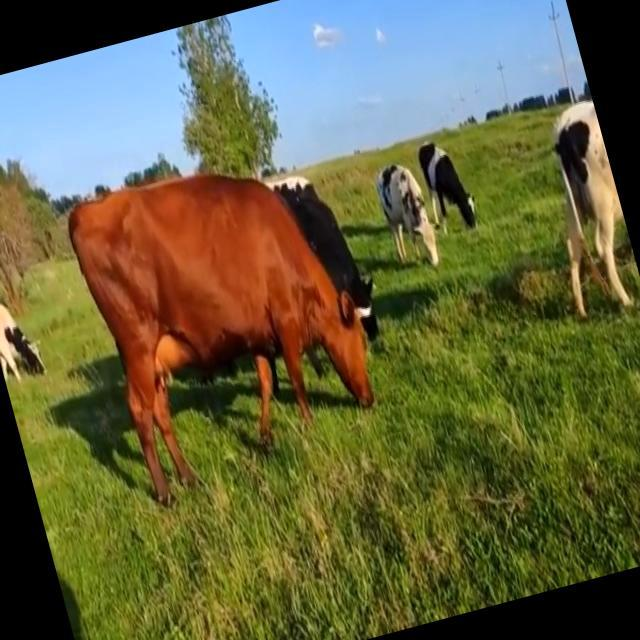COW: (68, 173, 377, 502), (375, 163, 438, 262), (418, 141, 476, 227)
